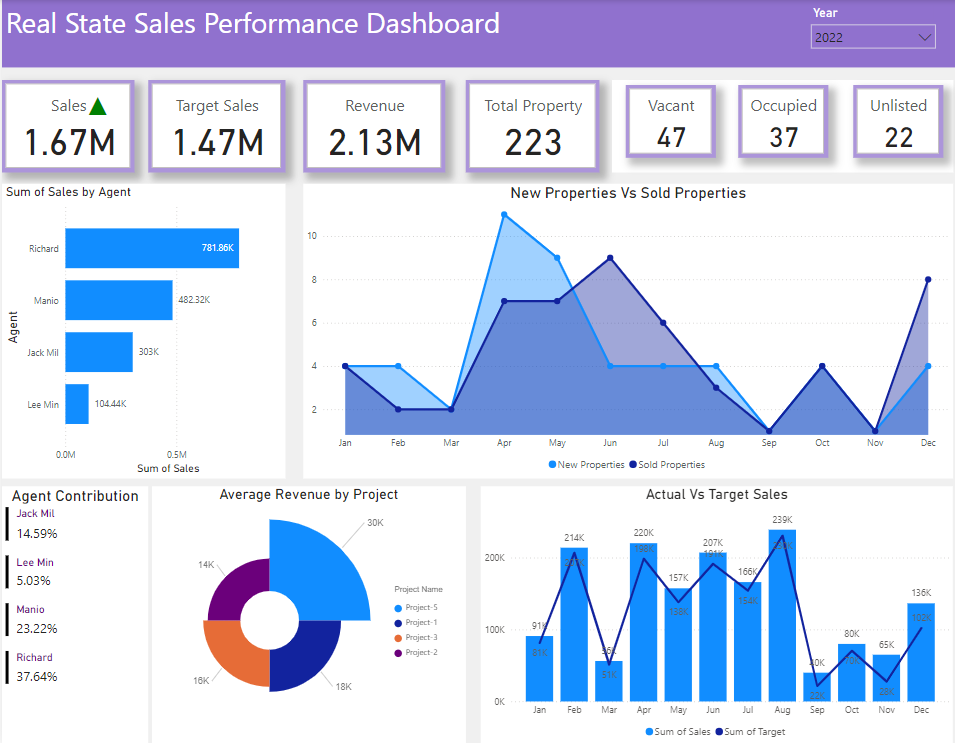

This screenshot's page, from the dashboard's own definition file:
{"tool":"powerbi","page":{"name":"Home","canvas":[1280,1000],"ordinal":0},"visuals":[{"type":"textbox","box":[0,0,1280,90],"z":0},{"type":"textbox","box":[0,0,1280,90],"z":1000},{"type":"cardVisual","fields":{"Data":["Real Estate Data.Sales"]},"box":[0,106.6,177.7,123.6],"z":2000},{"type":"cardVisual","fields":{"Data":["Real Estate Data.Target"]},"box":[196.3,106.6,183.9,123.6],"z":3000},{"type":"cardVisual","fields":{"Data":["Real Estate Data.Revenue"]},"box":[403.4,106.6,190.1,123.6],"z":4000},{"type":"cardVisual","fields":{"Data":["Real Estate Data.Total Property"]},"box":[621.3,106.6,179.3,123.6],"z":5000},{"type":"textbox","box":[817.6,106.6,457.5,123.6],"z":6000},{"type":"cardVisual","fields":{"Data":["Real Estate Data.Property Status"]},"box":[835.7,113.9,120.8,97.4],"z":7000},{"type":"cardVisual","fields":{"Data":["Real Estate Data.Occupied"]},"box":[986.6,113.9,120.8,97.4],"z":8000},{"type":"cardVisual","fields":{"Data":["Real Estate Data.Unlisted"]},"box":[1141.7,113.9,120.8,97.4],"z":9000},{"type":"barChart","fields":{"Category":["Real Estate Data.Agent"],"Y":["Real Estate Data.Sales"]},"box":[0,247,380.1,395.2],"z":10000},{"type":"lineChart","title":"New Properties Vs Sold Properties","fields":{"Category":["DimDate.Month Name"],"Y":["Real Estate Data.New Properties","Real Estate Data.Sold Properties"]},"box":[403.4,247,871.4,395.2],"z":11000},{"type":"multiRowCard","title":"Agent Contribution","fields":{"Values":["Real Estate Data.Agent","Real Estate Data.Agent Contribution"]},"box":[0,651.8,196,348.5],"z":12000},{"type":"AsterPlot1443303142064","title":"Average Revenue by Project","fields":{"Category":["Real Estate Data.Project Name"],"Y":["Real Estate Data.Revenue"]},"box":[201.1,651.8,420.6,348.5],"z":13000},{"type":"lineStackedColumnComboChart","title":"Actual Vs Target Sales","fields":{"Category":["DimDate.Month Name"],"Y":["Real Estate Data.Sales"],"Y2":["Real Estate Data.Target"]},"box":[641,652,633,348],"z":14000},{"type":"slicer","fields":{"Values":["DimDate.Date.Variation.Date Hierarchy.Year"]},"box":[1074.1,1.7,187.7,85.5],"z":15000},{"type":"card","fields":{"Values":["Real Estate Data.Icon Sales"]},"box":[98.9,113.9,58.6,55.3],"z":16501}]}

Visuals, with their boxes in screenshot pixels (x1, y1, x2, y2), scaled from the page's 1280x1000 canvas onto the 955x743 screenshot:
textbox: region(0, 0, 954, 67)
textbox: region(0, 0, 954, 67)
cardVisual - Real Estate Data.Sales: region(0, 79, 133, 171)
cardVisual - Real Estate Data.Target: region(146, 79, 284, 171)
cardVisual - Real Estate Data.Revenue: region(301, 79, 443, 171)
cardVisual - Real Estate Data.Total Property: region(464, 79, 597, 171)
textbox: region(610, 79, 951, 171)
cardVisual - Real Estate Data.Property Status: region(624, 85, 714, 157)
cardVisual - Real Estate Data.Occupied: region(736, 85, 826, 157)
cardVisual - Real Estate Data.Unlisted: region(852, 85, 942, 157)
barChart - Real Estate Data.Agent x Real Estate Data.Sales: region(0, 184, 284, 477)
"New Properties Vs Sold Properties" lineChart: region(301, 184, 951, 477)
"Agent Contribution" multiRowCard: region(0, 484, 146, 742)
"Average Revenue by Project" AsterPlot1443303142064: region(150, 484, 464, 742)
"Actual Vs Target Sales" lineStackedColumnComboChart: region(478, 484, 951, 742)
slicer - DimDate.Date.Variation.Date Hierarchy.Year: region(801, 1, 941, 65)
card - Real Estate Data.Icon Sales: region(74, 85, 118, 126)
